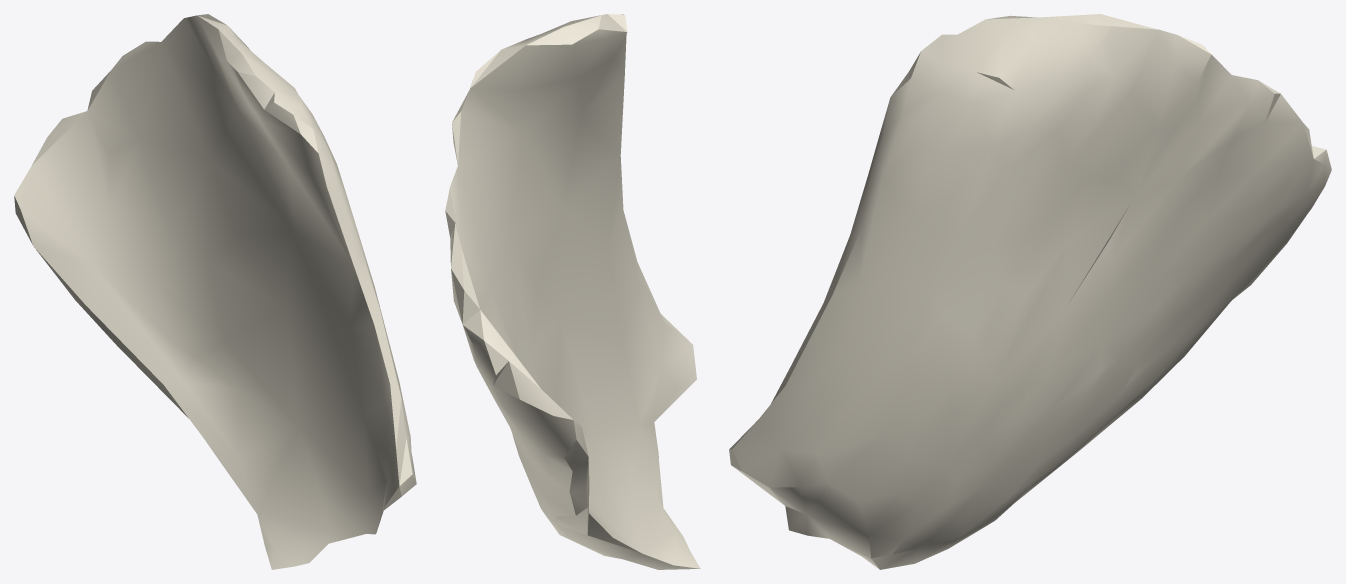
Rendered from fma326799-l_mm1456.glb.
3 views of the same model, side by side, from view 1: azimuth 30°, elevation 25°; view 2: azimuth 150°, elevation 25°; view 3: azimuth 270°, elevation 25° (orthographic). The views are drawn at different scales.
Parts seen in each view (by area): view 1: FMA326799-L_MM1456; view 2: FMA326799-L_MM1456; view 3: FMA326799-L_MM1456.
Part boxes in pixels (box(x1,y1,x2,y2)): FMA326799-L_MM1456: box(14, 14, 416, 569); FMA326799-L_MM1456: box(445, 14, 700, 569); FMA326799-L_MM1456: box(729, 14, 1331, 569).
Bounding box in the file's own units: 0.00225 × 0.00522 × 0.00515.
